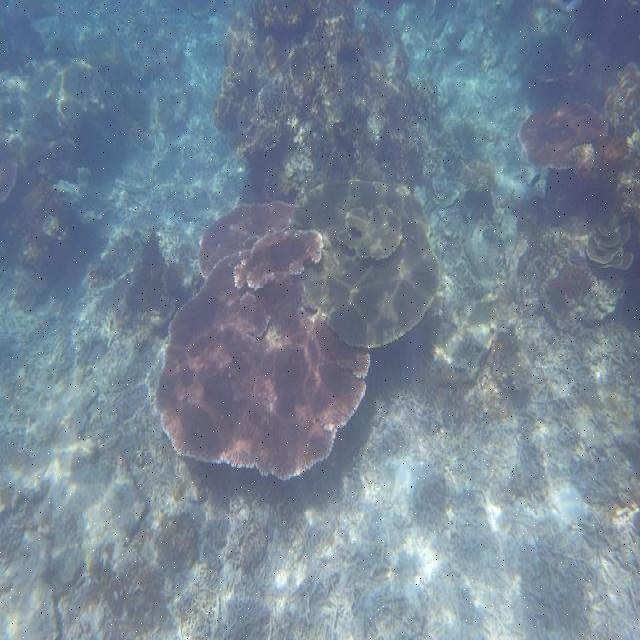reefs: (154, 202, 369, 480), (216, 1, 441, 202), (294, 179, 441, 350), (519, 100, 611, 170)
